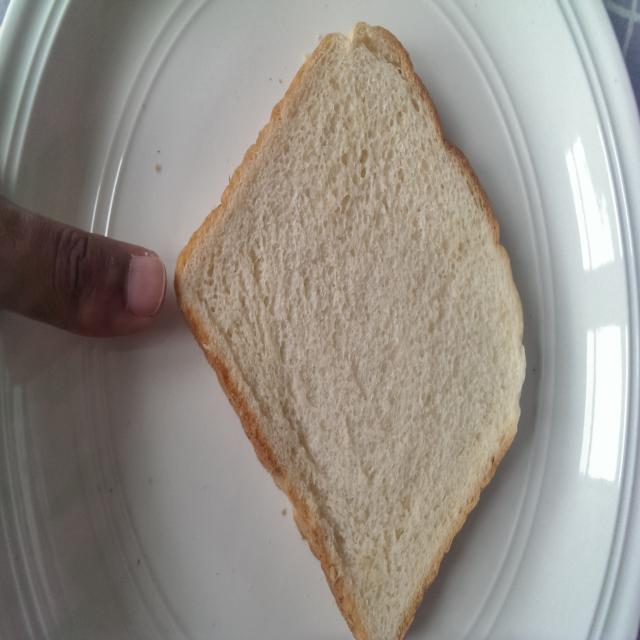bread: (175, 15, 502, 640)
